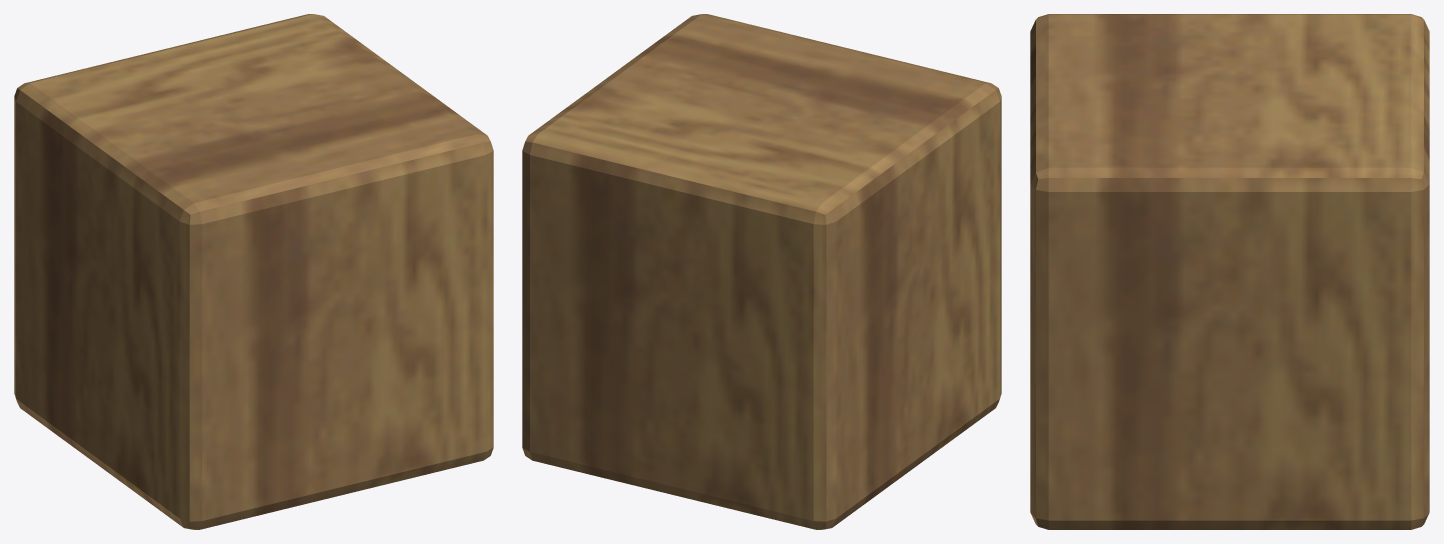
The model's file is DarkCubeSmall.fbx.
3 views of the same model, side by side, from view 1: azimuth 30°, elevation 25°; view 2: azimuth 150°, elevation 25°; view 3: azimuth 270°, elevation 25° (orthographic). The views are drawn at different scales.
Visible parts, largest first — view 1: Cube.007; view 2: Cube.007; view 3: Cube.007.
Boxes of the visible parts, x1,y1,x2,y2 form: Cube.007: (14,14,493,529); Cube.007: (522,14,1001,529); Cube.007: (1030,14,1429,529).
Size of the model in its own units: 200 by 200 by 200.
